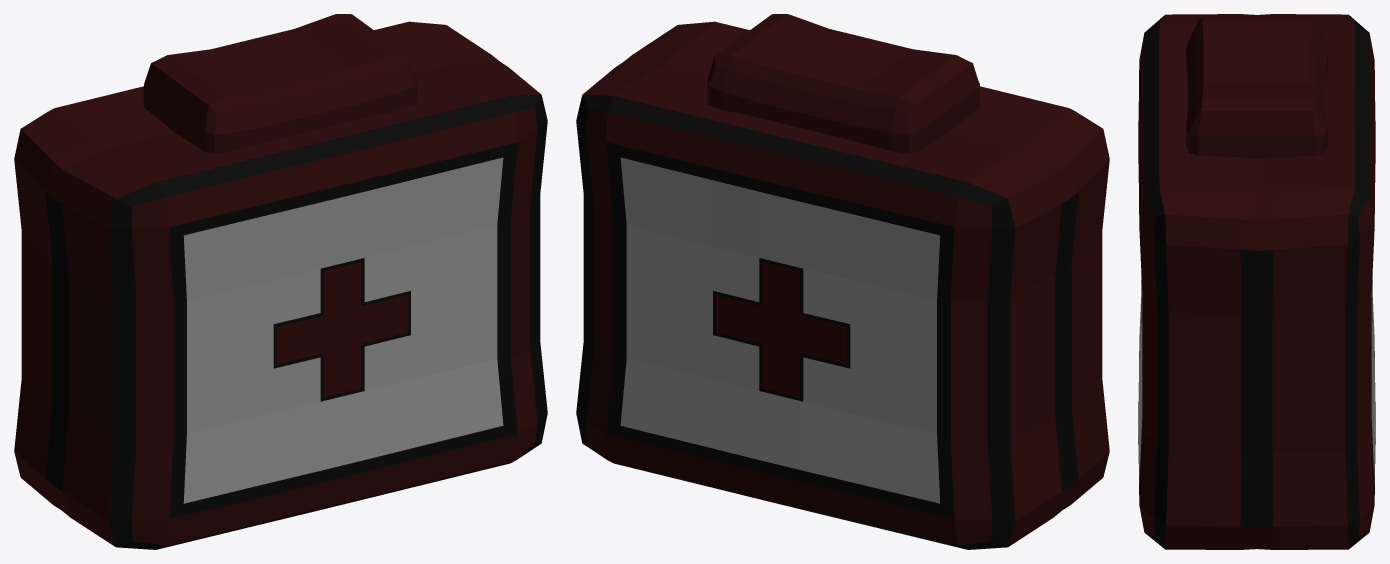
The model's file is firstaid.glb.
3 views of the same model, side by side, from view 1: azimuth 30°, elevation 25°; view 2: azimuth 150°, elevation 25°; view 3: azimuth 270°, elevation 25° (orthographic). The views are drawn at different scales.
Visible parts, largest first — view 1: item_firstaid; view 2: item_firstaid; view 3: item_firstaid.
Part boxes in pixels (x1,y1,x2,y2): item_firstaid: (14,14,547,549); item_firstaid: (576,14,1109,549); item_firstaid: (1138,14,1375,549).
Size of the model in its own units: 0.26 by 0.2261 by 0.122.
